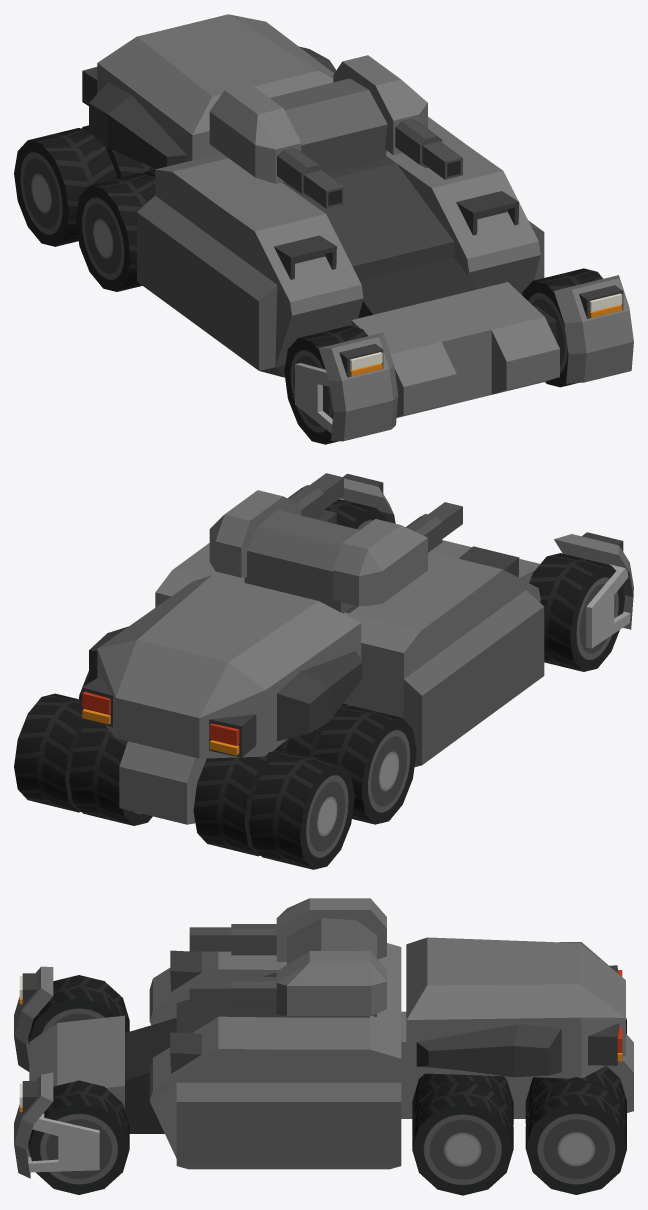
Rendered from ArmadilloTank.fbx.
3 views of the same model, one above another, from view 1: azimuth 30°, elevation 25°; view 2: azimuth 150°, elevation 25°; view 3: azimuth 270°, elevation 25° (orthographic). The views are drawn at different scales.
Visible parts, largest first — view 1: ArmadilloTank, Turret, TireBRY, TireProtectionR, TireBRX, TireProtectionL, TireFR, TireFL; view 2: ArmadilloTank, Turret, TireBRY, TireBLY, TireBRX, TireFR, TireProtectionR, TireProtectionL, TireFL; view 3: ArmadilloTank, Turret, TireBLX, TireBLY, TireFL, TireProtectionL, TireFR, TireProtectionR.
Boxes of the visible parts, x1,y1,x2,y2 form: ArmadilloTank: (82, 14, 559, 417); Turret: (209, 55, 462, 208); TireBRY: (14, 125, 155, 246); TireProtectionR: (295, 332, 398, 441); TireBRX: (75, 169, 155, 291); TireProtectionL: (554, 275, 633, 383); TireFR: (284, 325, 367, 444); TireFL: (522, 268, 602, 387); ArmadilloTank: (82, 510, 544, 824); Turret: (209, 473, 462, 613); TireBRY: (193, 747, 354, 869); TireBLY: (14, 693, 152, 825); TireBRX: (277, 703, 416, 824); TireFR: (529, 553, 624, 671); TireProtectionR: (554, 532, 633, 648); TireProtectionL: (339, 473, 395, 523); TireFL: (324, 499, 386, 529); ArmadilloTank: (29, 937, 633, 1169); Turret: (189, 898, 386, 1016); TireBLX: (412, 1073, 513, 1195); TireBLY: (525, 1066, 626, 1194); TireFL: (28, 1080, 129, 1194); TireProtectionL: (14, 1072, 99, 1178); TireFR: (28, 975, 129, 1045); TireProtectionR: (14, 966, 53, 1071).
Size of the model in its own units: 328 by 228 by 638.
